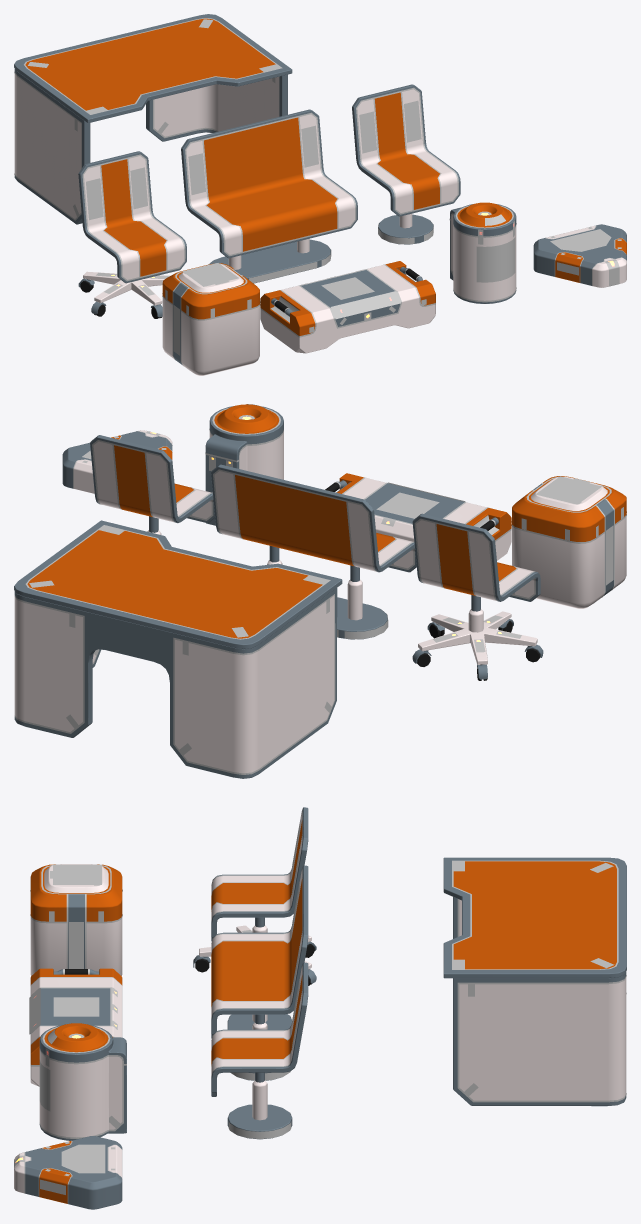
File: dec.fbx
3 renders of one model, top to bottom at view 1: azimuth 30°, elevation 25°; view 2: azimuth 150°, elevation 25°; view 3: azimuth 270°, elevation 25°, orthographic. The views are drawn at different scales.
Visible parts, largest first — view 1: Table001, Chair003, Chair001, Chair002, Container002, Container001, Container003, Container004, Chair003_d, Container002_d, Chair002_d, Chair001_d (+4 smaller); view 2: Table001, Chair003, Container001, Chair001, Chair002, Container003, Container002, Table001_d, Container001_d, Container004, Container002_d, Chair001_d (+3 smaller); view 3: Table001, Chair003, Container003, Container001, Chair002, Chair001, Container004, Container002, Table001_d, Container001_d, Container002_d, Container004_d (+4 smaller).
Part boxes in pixels (x1,y1,x2,y2): Table001: (14, 14, 292, 224); Chair003: (181, 109, 357, 283); Chair001: (78, 151, 186, 318); Chair002: (352, 84, 460, 244); Container002: (260, 261, 435, 353); Container001: (162, 263, 259, 375); Container003: (450, 202, 516, 303); Container004: (533, 224, 626, 287); Chair003_d: (185, 112, 356, 283); Container002_d: (260, 264, 435, 337); Chair002_d: (356, 87, 458, 244); Chair001_d: (82, 154, 185, 295); Table001: (14, 520, 342, 778); Chair003: (211, 464, 416, 639); Container001: (512, 476, 626, 608); Chair001: (412, 513, 543, 680); Chair002: (90, 435, 214, 534); Container003: (205, 404, 283, 525); Container002: (325, 473, 511, 560); Table001_d: (14, 525, 335, 774); Container001_d: (511, 476, 626, 597); Container004: (62, 430, 172, 493); Container002_d: (335, 477, 511, 541); Chair001_d: (414, 518, 535, 652); Table001: (443, 857, 626, 1106); Chair003: (211, 865, 308, 1080); Container003: (39, 1023, 126, 1140); Container001: (30, 864, 122, 975); Chair002: (211, 962, 308, 1139); Chair001: (193, 807, 316, 985); Container004: (14, 1136, 122, 1209); Container002: (30, 968, 122, 1086); Table001_d: (452, 860, 626, 1102); Container001_d: (30, 864, 122, 968); Container002_d: (29, 969, 121, 1066); Container004_d: (14, 1140, 121, 1204).
Size of the model in its own units: 344 by 89.4 by 334.
